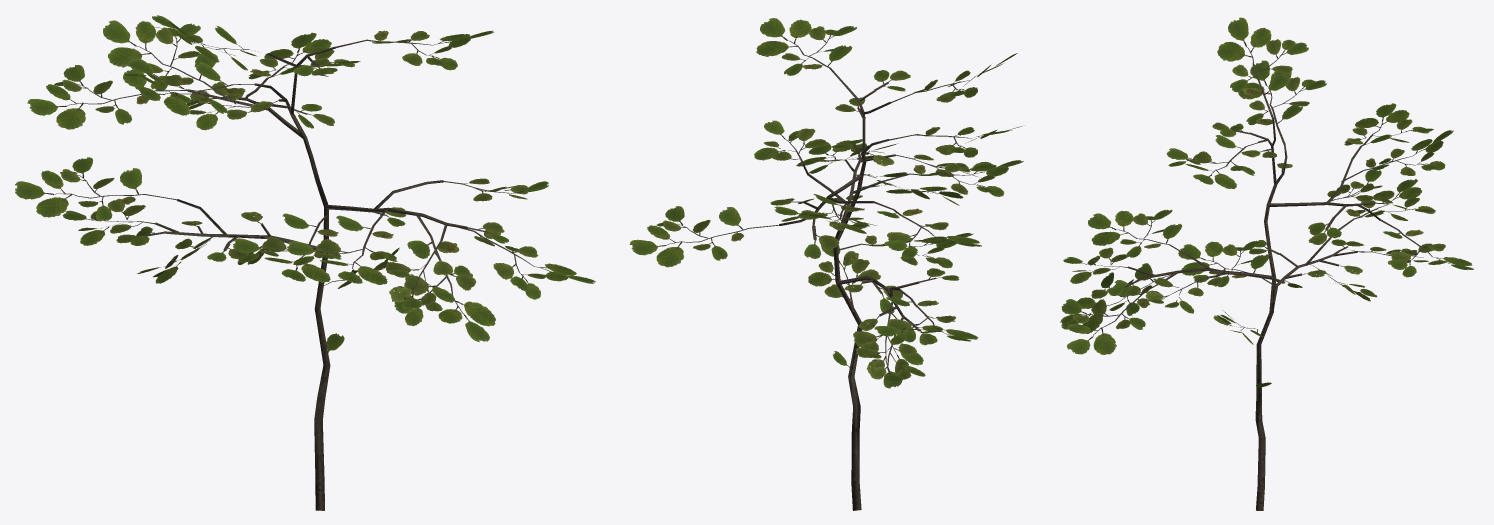
File: SM_BlackAlder_Sapling_03_PP_LOD3.gltf
3 views of the same model, side by side, from view 1: azimuth 30°, elevation 25°; view 2: azimuth 150°, elevation 25°; view 3: azimuth 270°, elevation 25° (orthographic). The views are drawn at different scales.
Visible parts, largest first — view 1: SM_BlackAlder_Sapling_03_PP; view 2: SM_BlackAlder_Sapling_03_PP; view 3: SM_BlackAlder_Sapling_03_PP.
Boxes of the visible parts, x1,y1,x2,y2 form: SM_BlackAlder_Sapling_03_PP: [15, 15, 595, 510]; SM_BlackAlder_Sapling_03_PP: [629, 18, 1023, 510]; SM_BlackAlder_Sapling_03_PP: [1060, 17, 1473, 510].
Size of the model in its own units: 1.38 by 1.82 by 1.61.
Materials: 1 (1 with a texture image).
